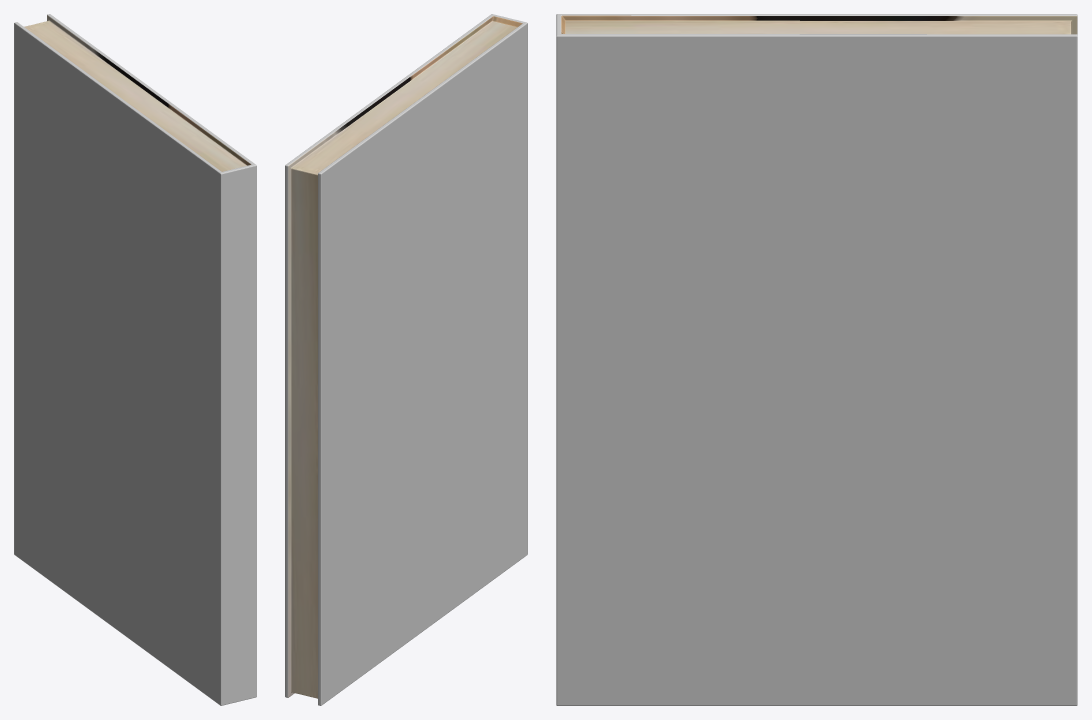
Rendered from Book_pack.fbx.
3 views of the same model, side by side, from view 1: azimuth 30°, elevation 25°; view 2: azimuth 150°, elevation 25°; view 3: azimuth 270°, elevation 25° (orthographic). The views are drawn at different scales.
Parts seen in each view (by area): view 1: Book 011; view 2: Book 011; view 3: Book 011.
Part boxes in pixels (x1,y1,x2,y2): Book 011: [14, 14, 256, 705]; Book 011: [285, 14, 527, 705]; Book 011: [556, 14, 1077, 705].
Size of the model in its own units: 1.5 by 21 by 14.8.
